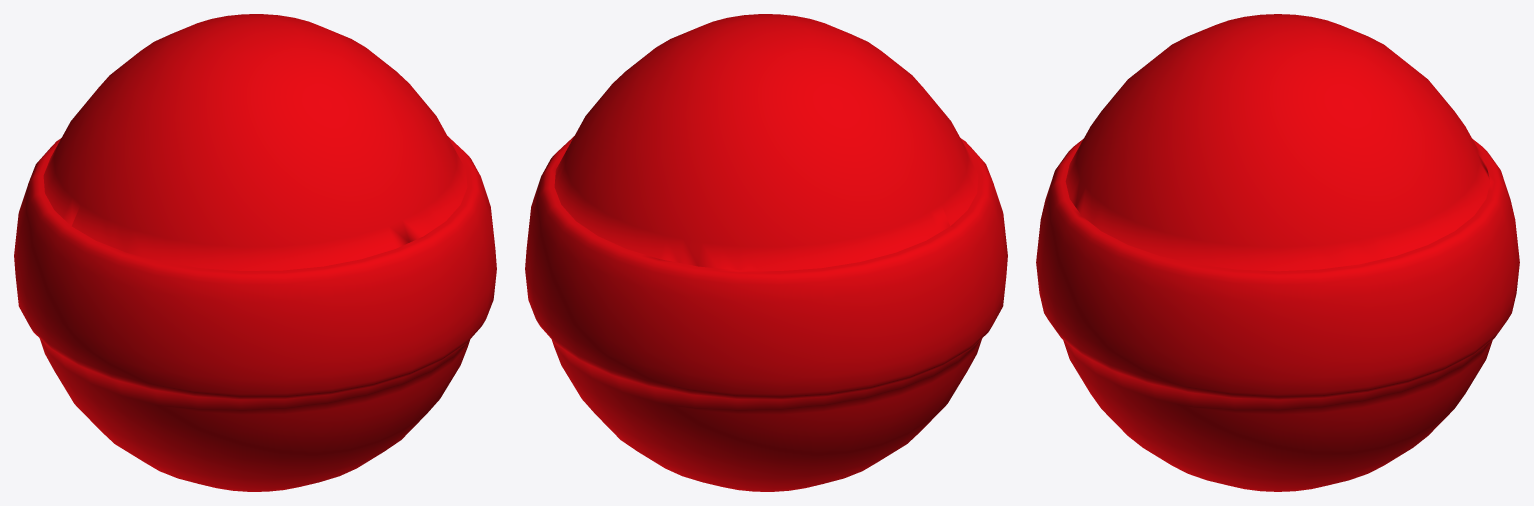
File: lollypop.glb
3 views of the same model, side by side, from view 1: azimuth 30°, elevation 25°; view 2: azimuth 150°, elevation 25°; view 3: azimuth 270°, elevation 25° (orthographic).
Visible parts, largest first — view 1: Lollypop; view 2: Lollypop; view 3: Lollypop.
Part boxes in pixels (<box>): Lollypop: <box>14,14,496,491</box>; Lollypop: <box>525,14,1007,491</box>; Lollypop: <box>1036,14,1519,491</box>.
Size of the model in its own units: 2.2 by 2.19 by 2.2.
